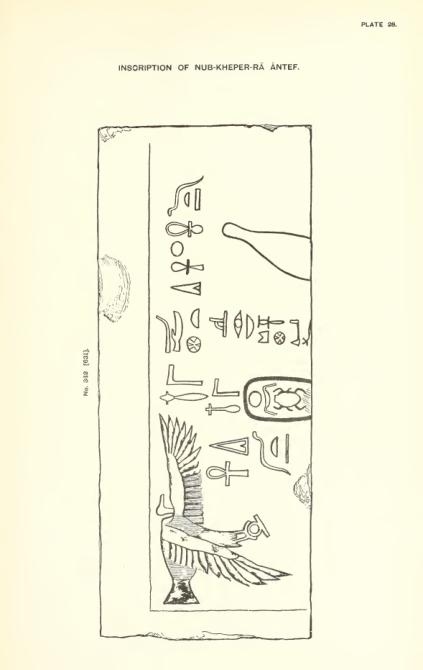circle: (241, 372, 315, 425)
